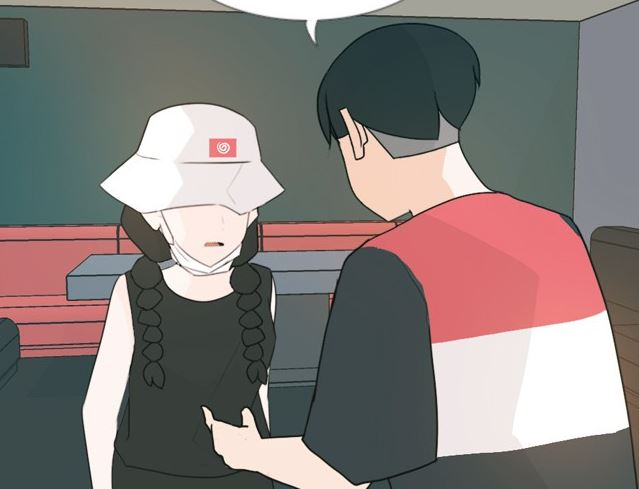hat: (97, 98, 295, 215)
